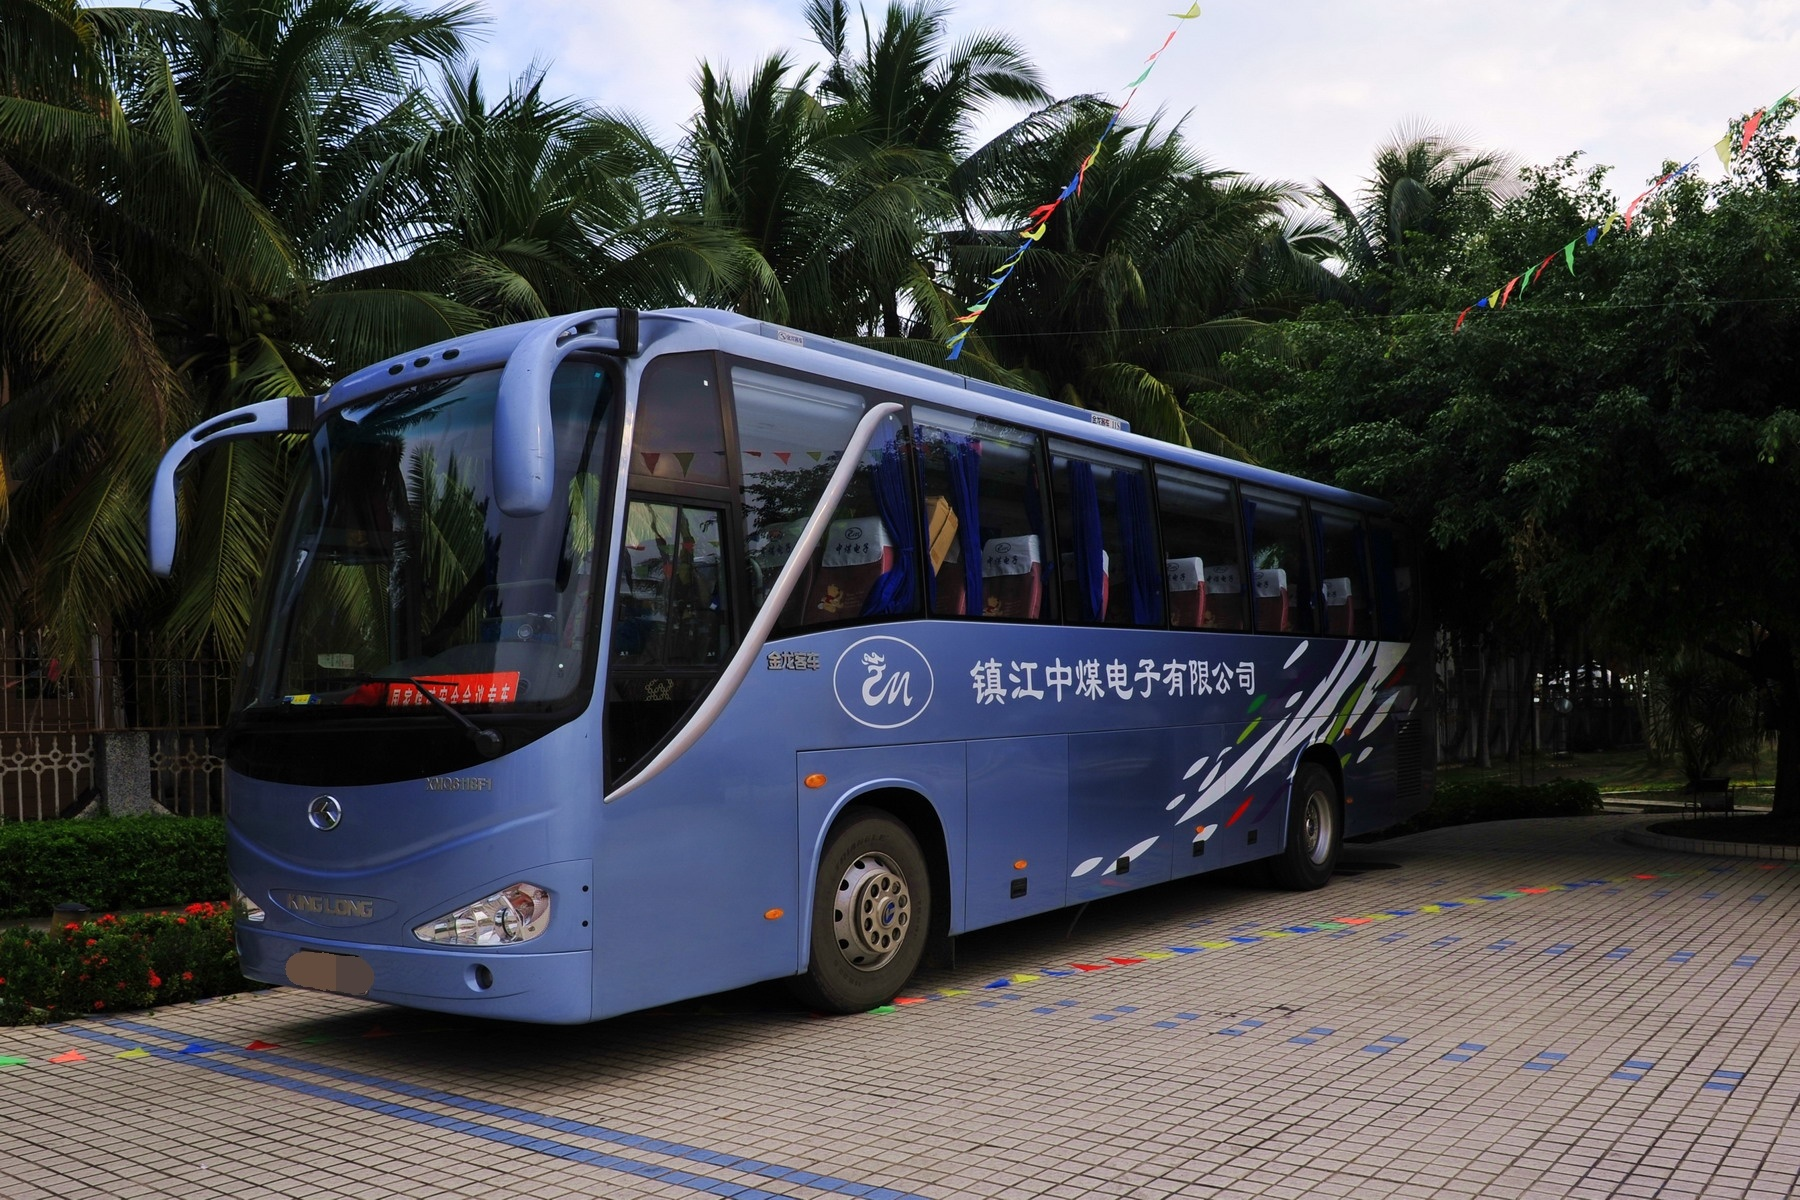bus: (154, 295, 1426, 1018)
